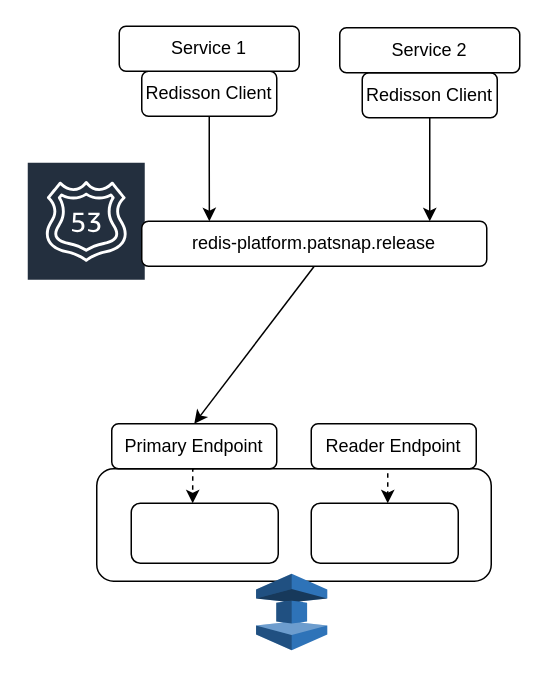
Image size: 546x677. Some labels were removed from this diagram. The shapes that lost their labels are listed below. From the top down, each one's box as (x1, y1, x2, y2) in pixels, then its label:
(25, 160, 146, 326): Amazon Route 53
(130, 502, 278, 563): 主节点
(310, 502, 458, 563): 副本节点
